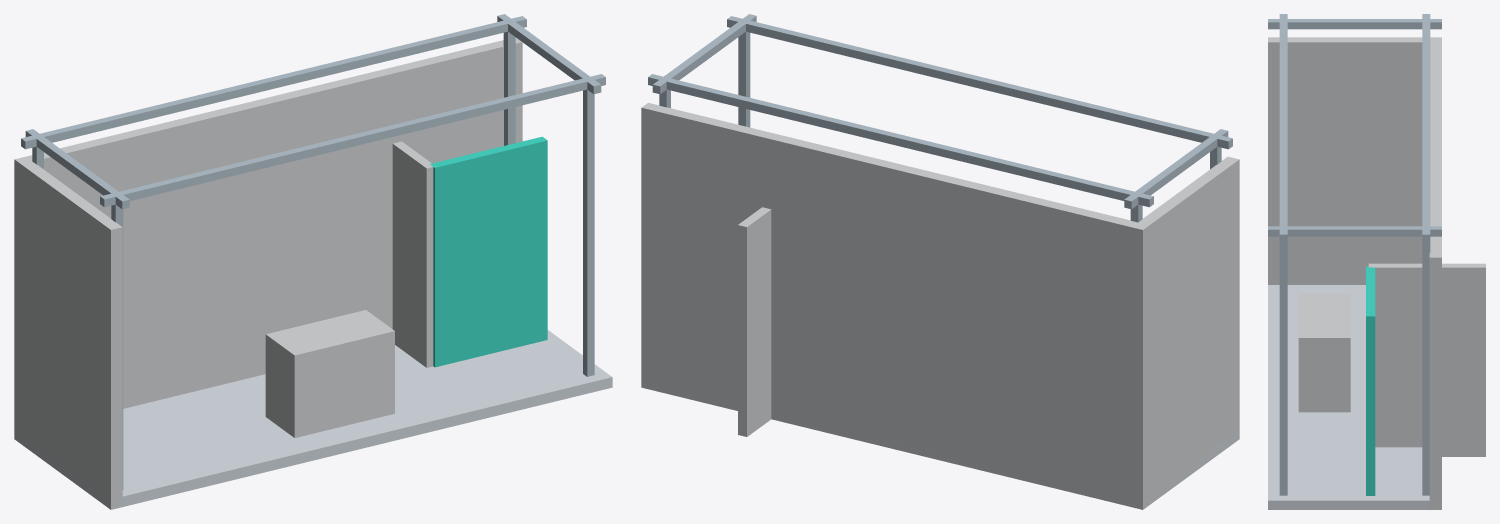
3 renders of one model, left to right at view 1: azimuth 30°, elevation 25°; view 2: azimuth 150°, elevation 25°; view 3: azimuth 270°, elevation 25°, orthographic. The views are drawn at different scales.
Visible parts, largest first — view 1: Exhibition Booth Concept; view 2: Exhibition Booth Concept; view 3: Exhibition Booth Concept.
Boxes of the visible parts, x1,y1,x2,y2 form: Exhibition Booth Concept: (14,14,612,509); Exhibition Booth Concept: (641,14,1239,509); Exhibition Booth Concept: (1268,14,1485,509).
Bounding box in the file's own units: 6 × 3.49 × 2.5.
